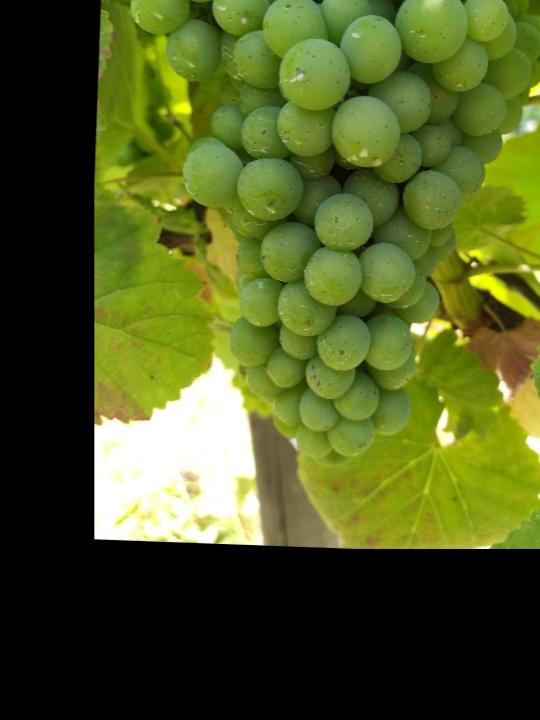grape: (113, 0, 540, 470)
